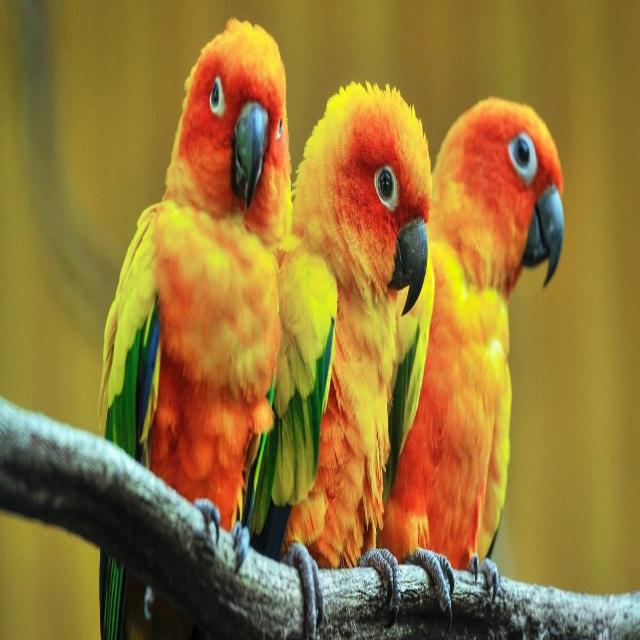Parrot: (100, 17, 294, 640), (419, 92, 567, 596), (294, 81, 432, 605)
